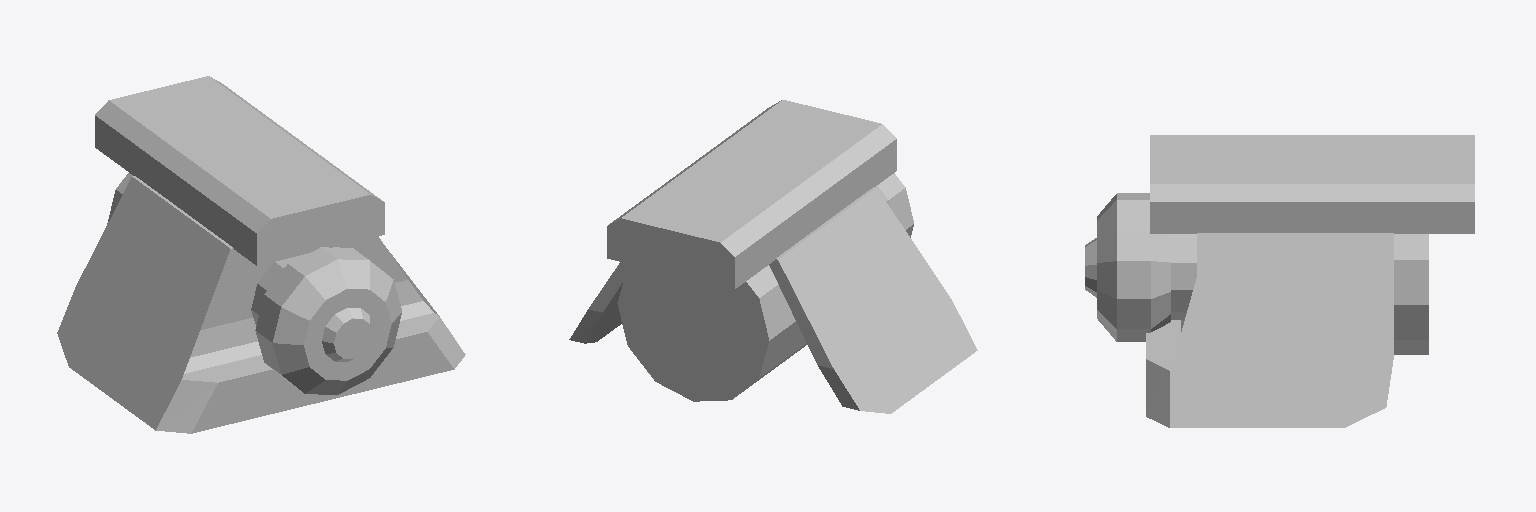
Rendered from Bipod1.obj.
The picture shows the model from 3 angles: view 1: azimuth 30°, elevation 25°; view 2: azimuth 150°, elevation 25°; view 3: azimuth 270°, elevation 25°; orthographic projection.
Parts seen in each view (by area): view 1: Cube.017; view 2: Cube.017; view 3: Cube.017.
Part boxes in pixels (bbox=[...]): Cube.017: bbox=[57, 76, 465, 433]; Cube.017: bbox=[569, 100, 977, 413]; Cube.017: bbox=[1085, 135, 1474, 427].
Bounding box in the file's own units: 0.1831 × 0.1092 × 0.199.